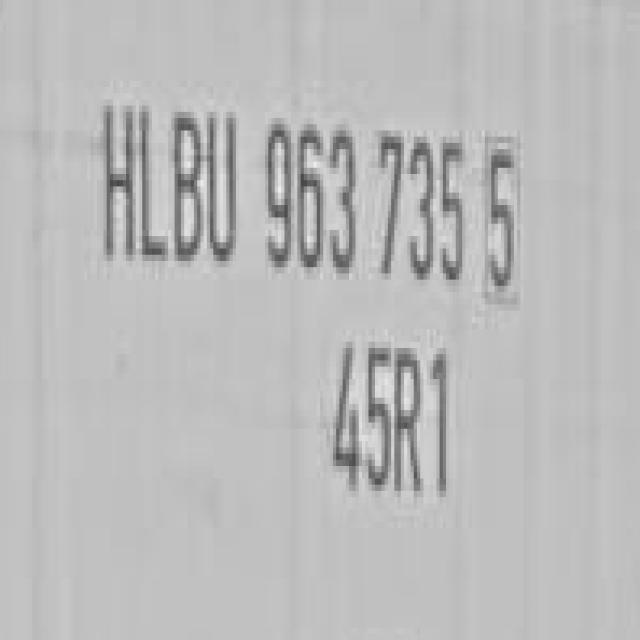dv: (479, 123, 530, 315)
owner: (95, 82, 245, 280)
serial: (260, 102, 470, 300)
size: (316, 330, 462, 512)
